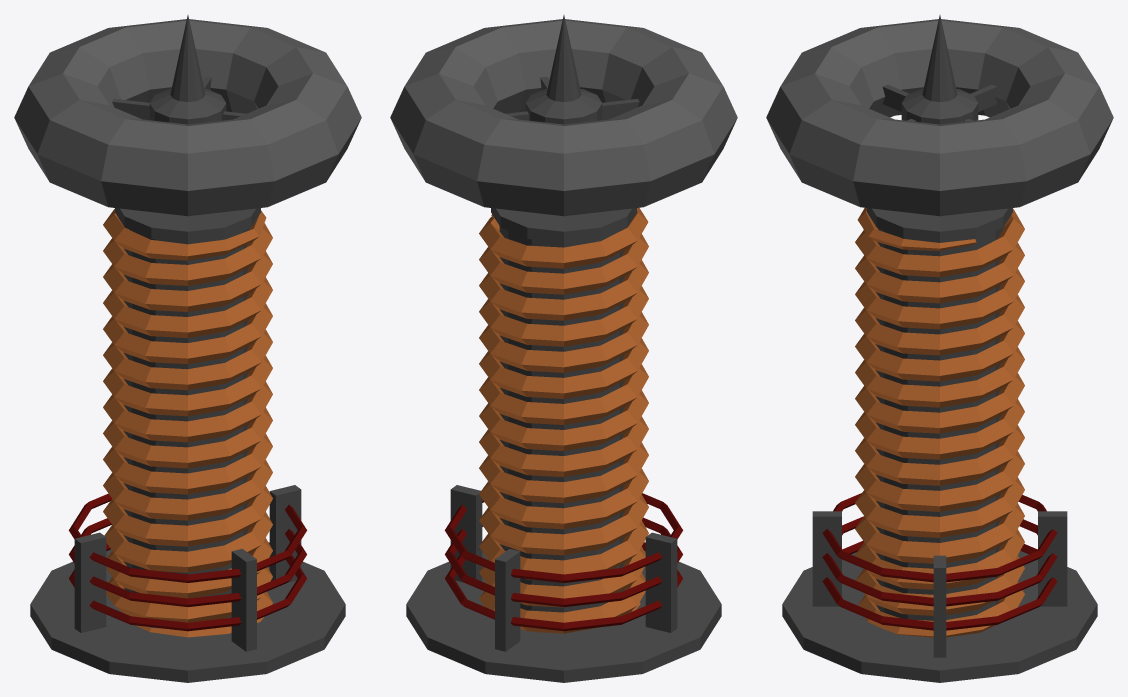
Rendered from TeslaCoil.glb.
3 views of the same model, side by side, from view 1: azimuth 30°, elevation 25°; view 2: azimuth 150°, elevation 25°; view 3: azimuth 270°, elevation 25° (orthographic).
Parts seen in each view (by area): view 1: Torus.002; view 2: Torus.002; view 3: Torus.002.
Part boxes in pixels (x1=…): Torus.002: x1=14, y1=15, x2=361, y2=682; Torus.002: x1=390, y1=15, x2=737, y2=682; Torus.002: x1=766, y1=15, x2=1113, y2=682.
Size of the model in its own units: 278 by 538 by 278.
